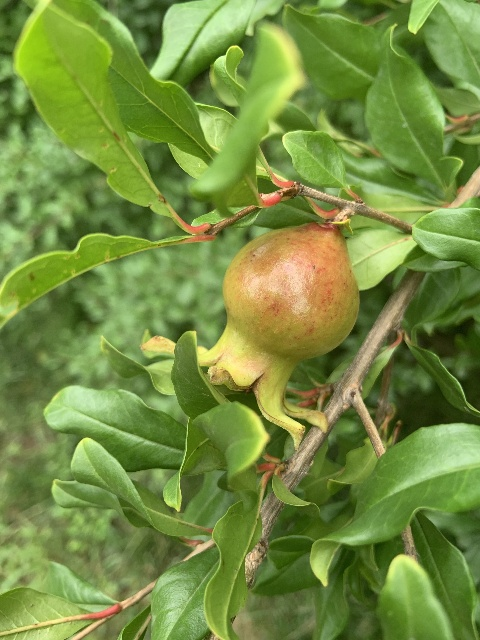early-fruit: (140, 223, 359, 446)
